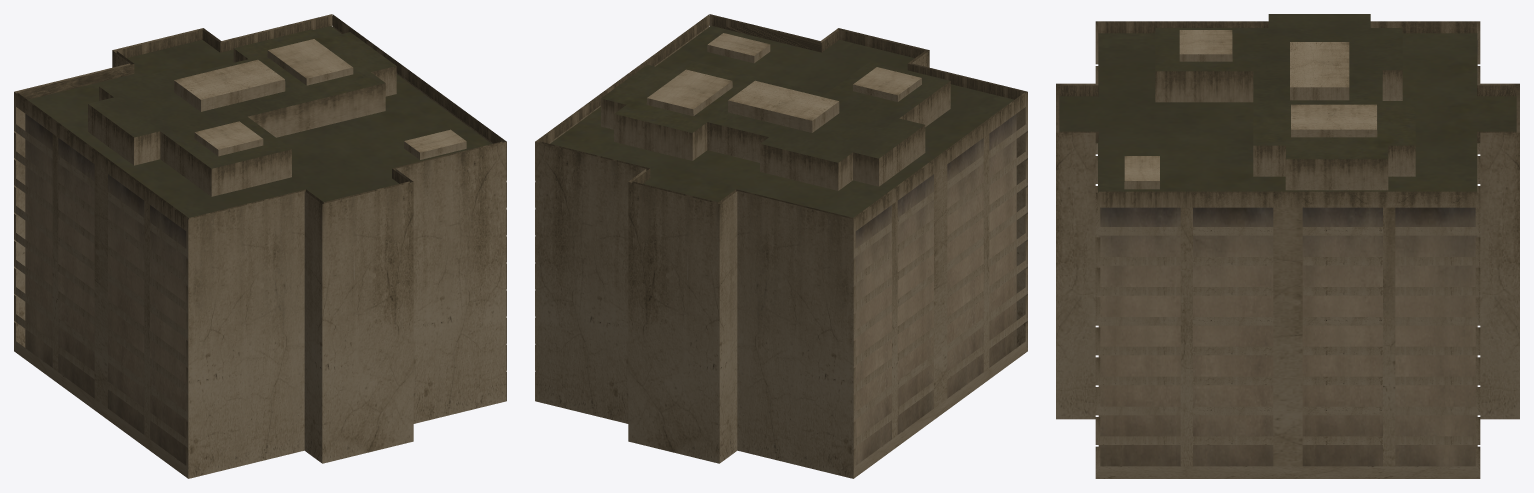
Rendered from ORB_1_S9_Detail_3.fbx.
3 views of the same model, side by side, from view 1: azimuth 30°, elevation 25°; view 2: azimuth 150°, elevation 25°; view 3: azimuth 270°, elevation 25° (orthographic). The views are drawn at different scales.
Visible parts, largest first — view 1: ORB_1_S9_Detail_3; view 2: ORB_1_S9_Detail_3; view 3: ORB_1_S9_Detail_3.
Part boxes in pixels (<box>): ORB_1_S9_Detail_3: <box>14,14,506,478</box>; ORB_1_S9_Detail_3: <box>535,14,1027,478</box>; ORB_1_S9_Detail_3: <box>1056,14,1519,478</box>.
Bounding box in the file's own units: 3447 × 3001 × 3942.
